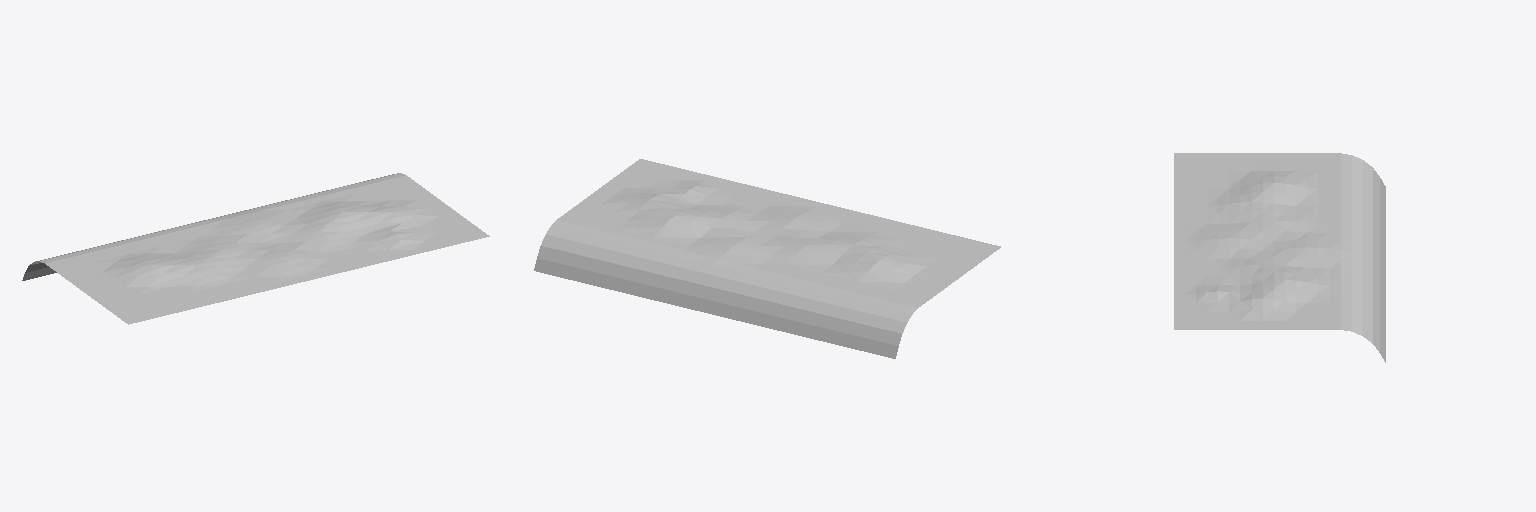
File: groundBack1.obj
The picture shows the model from 3 angles: view 1: azimuth 30°, elevation 25°; view 2: azimuth 150°, elevation 25°; view 3: azimuth 270°, elevation 25°; orthographic projection.
Visible parts, largest first — view 1: pPlane1; view 2: pPlane1; view 3: pPlane1.
Part boxes in pixels (x1,y1,x2,y2): pPlane1: (22,173,489,324); pPlane1: (534,159,1000,358); pPlane1: (1174,153,1385,362).
Bounding box in the file's own units: 15 × 1.61 × 7.64.